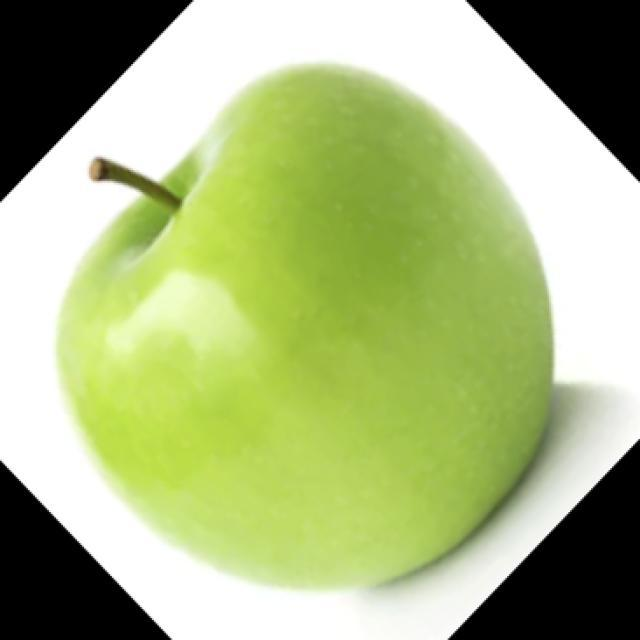Apple: (54, 59, 555, 591)
